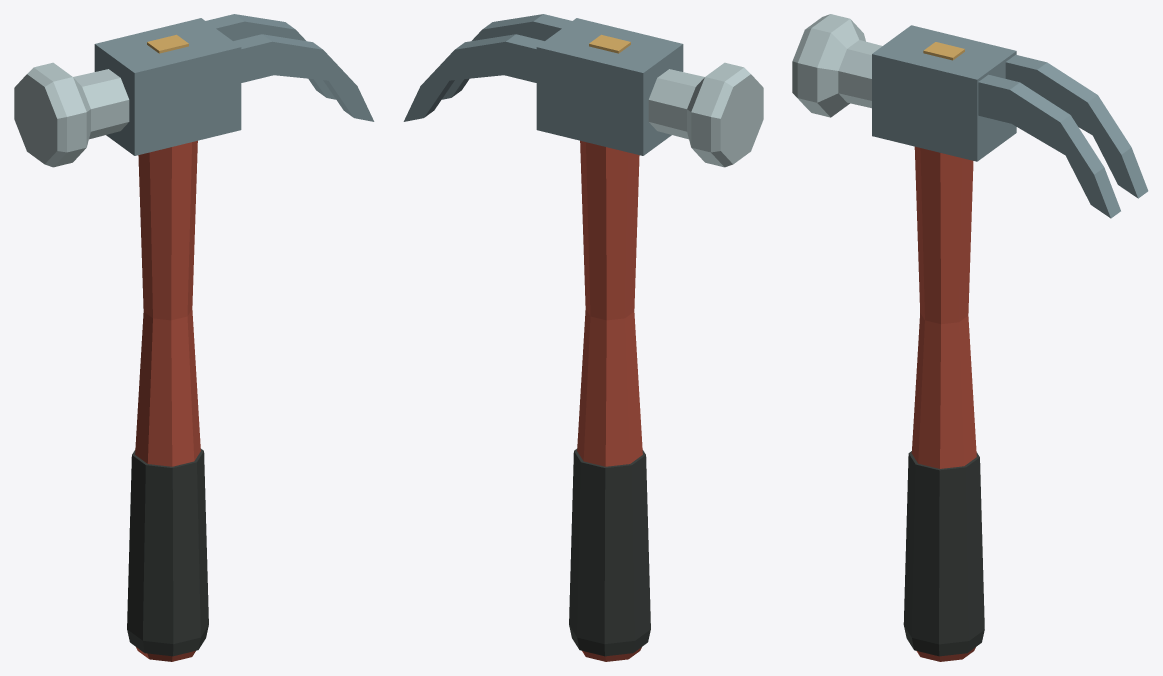
The model's file is Hammer_Red_Grip.glb.
The picture shows the model from 3 angles, left to right: view 1: azimuth 30°, elevation 25°; view 2: azimuth 150°, elevation 25°; view 3: azimuth 330°, elevation 25°; orthographic projection.
Visible parts, largest first — view 1: Hammer_Red_Grip; view 2: Hammer_Red_Grip; view 3: Hammer_Red_Grip.
Part boxes in pixels (left/top/right/bottom): Hammer_Red_Grip: left=14, top=14, right=374, bottom=661; Hammer_Red_Grip: left=403, top=14, right=763, bottom=661; Hammer_Red_Grip: left=792, top=14, right=1148, bottom=661.
Bounding box in the file's own units: 0.375 × 0.6795 × 0.0961.
